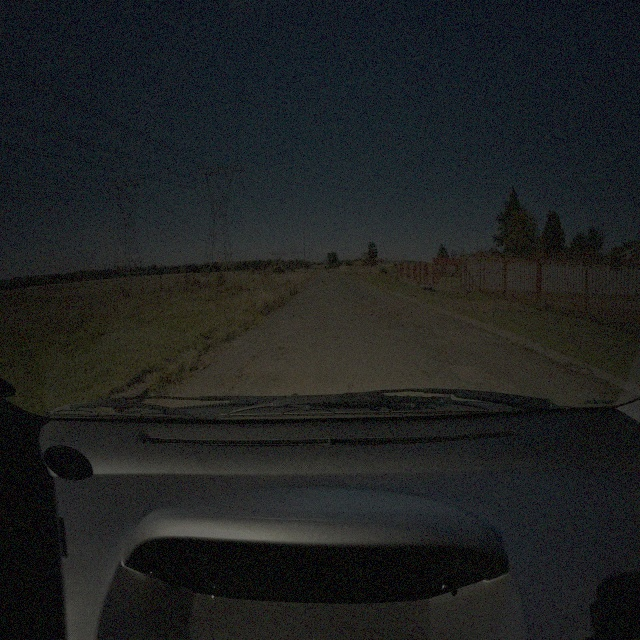pothole: (244, 355, 258, 378), (354, 303, 378, 315), (271, 346, 286, 354), (437, 349, 449, 358), (437, 338, 448, 346), (401, 317, 415, 322), (419, 327, 427, 331)
